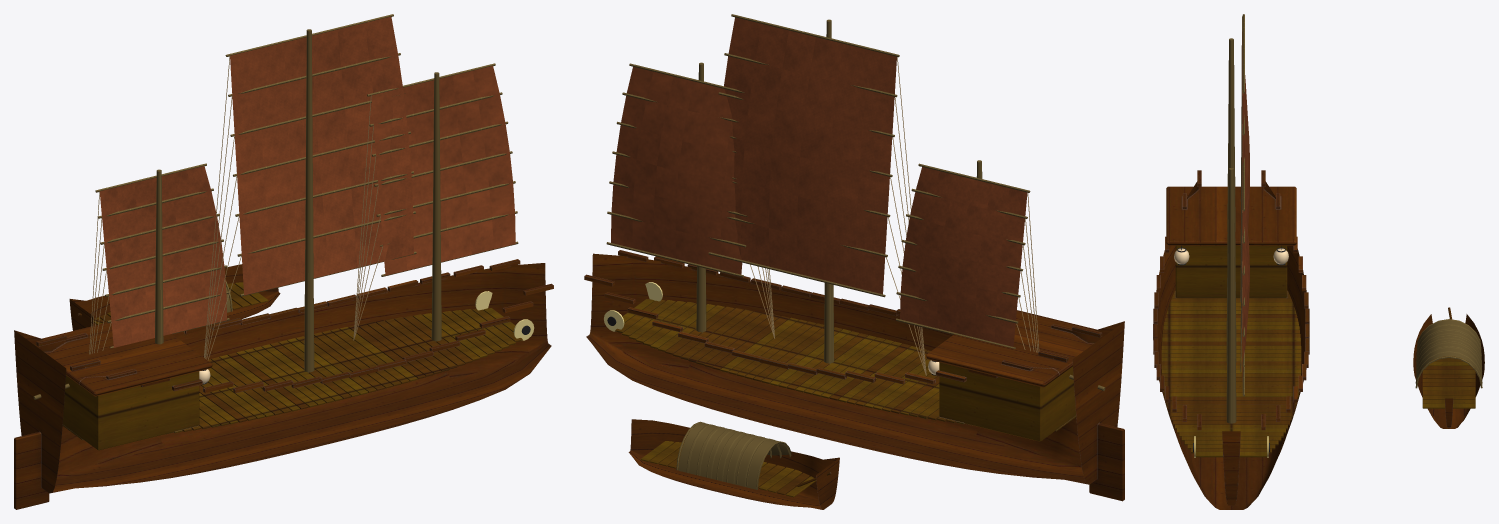
The model's file is Giunca.fbx.
The picture shows the model from 3 angles, left to right: view 1: azimuth 30°, elevation 25°; view 2: azimuth 150°, elevation 25°; view 3: azimuth 270°, elevation 25°; orthographic projection. The views are drawn at different scales.
Parts seen in each view (by area): view 1: Giunca_Vele, Giunca_Scafo, Giunca_Ponte, Giunca_Bambu, Giunca_Corde, Sampan_Scafo, Sampan_Ponte; view 2: Giunca_Vele, Giunca_Scafo, Giunca_Ponte, Giunca_Bambu, Sampan_Scafo, Sampan_Stuoia, Giunca_Corde, Sampan_Ponte; view 3: Giunca_Ponte, Giunca_Scafo, Giunca_Bambu, Sampan_Stuoia, Sampan_Ponte, Giunca_Vele, Sampan_Scafo, Giunca_Corde, Giunca_Lanterne.
Part boxes in pixels (box(x1,y1,x2,y2)): Giunca_Vele: box(100, 16, 515, 347); Giunca_Scafo: box(14, 259, 553, 509); Giunca_Ponte: box(62, 308, 522, 450); Giunca_Bambu: box(33, 14, 518, 399); Giunca_Corde: box(89, 56, 383, 360); Sampan_Scafo: box(69, 264, 280, 330); Sampan_Ponte: box(93, 282, 268, 324); Giunca_Vele: box(611, 17, 1027, 346); Giunca_Scafo: box(584, 250, 1124, 501); Giunca_Ponte: box(615, 299, 1076, 441); Giunca_Bambu: box(606, 14, 1105, 390); Sampan_Scafo: box(628, 419, 839, 509); Sampan_Stuoia: box(676, 421, 791, 489); Giunca_Corde: box(750, 57, 1039, 375); Sampan_Ponte: box(640, 441, 816, 497); Giunca_Ponte: box(1161, 245, 1301, 457); Giunca_Scafo: box(1153, 170, 1309, 509); Giunca_Bambu: box(1226, 14, 1244, 423); Sampan_Stuoia: box(1415, 319, 1482, 388); Sampan_Ponte: box(1422, 356, 1475, 408); Giunca_Vele: box(1242, 32, 1249, 381); Sampan_Scafo: box(1413, 314, 1484, 428); Giunca_Corde: box(1240, 16, 1242, 372); Giunca_Lanterne: box(1174, 248, 1288, 264).
Bounding box in the file's own units: 1890 × 1375 × 1067.
